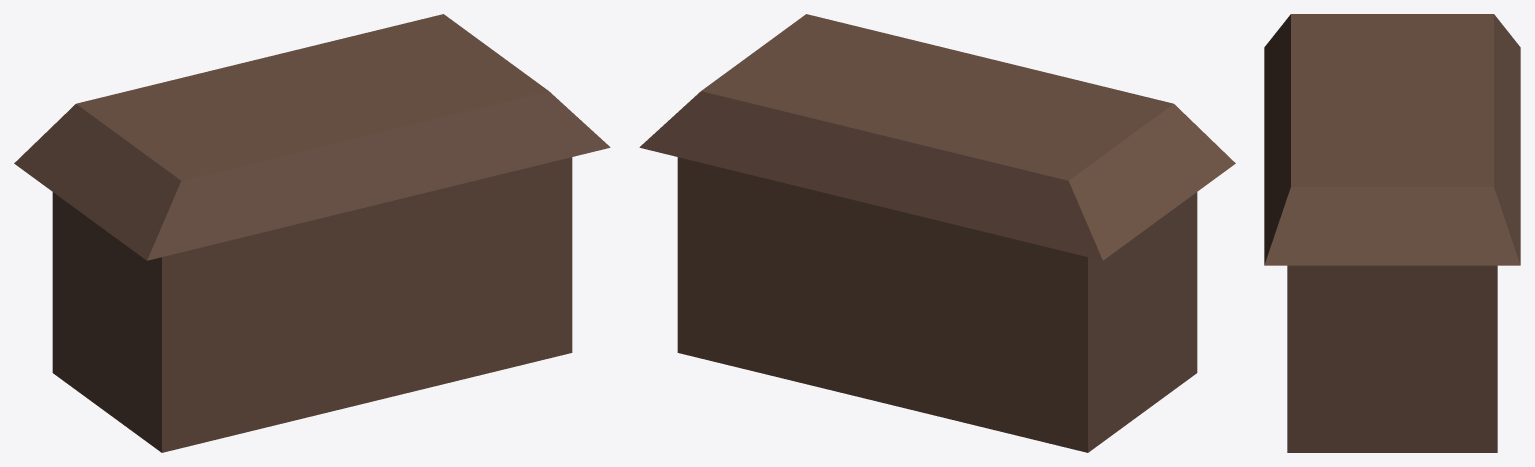
File: animated-object.glb
The picture shows the model from 3 angles, left to right: view 1: azimuth 30°, elevation 25°; view 2: azimuth 150°, elevation 25°; view 3: azimuth 270°, elevation 25°; orthographic projection. The views are drawn at different scales.
Parts seen in each view (by area): view 1: Cube, Plane; view 2: Cube, Plane; view 3: Plane, Cube.
Part boxes in pixels (x1=…): Cube: x1=52, y1=157, x2=572, y2=452; Plane: x1=14, y1=14, x2=610, y2=260; Cube: x1=677, y1=157, x2=1197, y2=452; Plane: x1=639, y1=14, x2=1235, y2=260; Plane: x1=1264, y1=14, x2=1520, y2=265; Cube: x1=1287, y1=265, x2=1497, y2=452.
Bounding box in the file's own units: 4.9 × 2.68 × 2.43.
